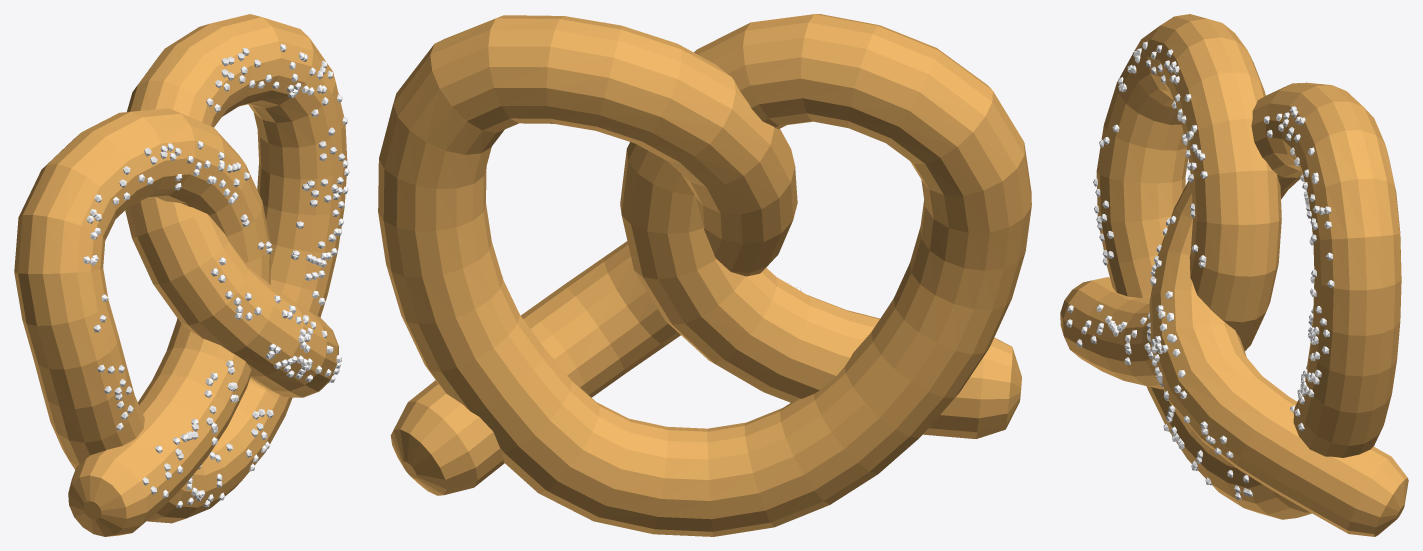
Rendered from Pretzel.gltf.
3 renders of one model, left to right at view 1: azimuth 30°, elevation 25°; view 2: azimuth 150°, elevation 25°; view 3: azimuth 270°, elevation 25°, orthographic. The views are drawn at different scales.
Parts seen in each view (by area): view 1: node-0; view 2: node-0; view 3: node-0.
Boxes of the visible parts, box(x1,y1,x2,y2) form: node-0: box(14, 14, 349, 536); node-0: box(378, 14, 1031, 536); node-0: box(1060, 14, 1408, 536).
Bounding box in the file's own units: 211 × 207 × 151.
